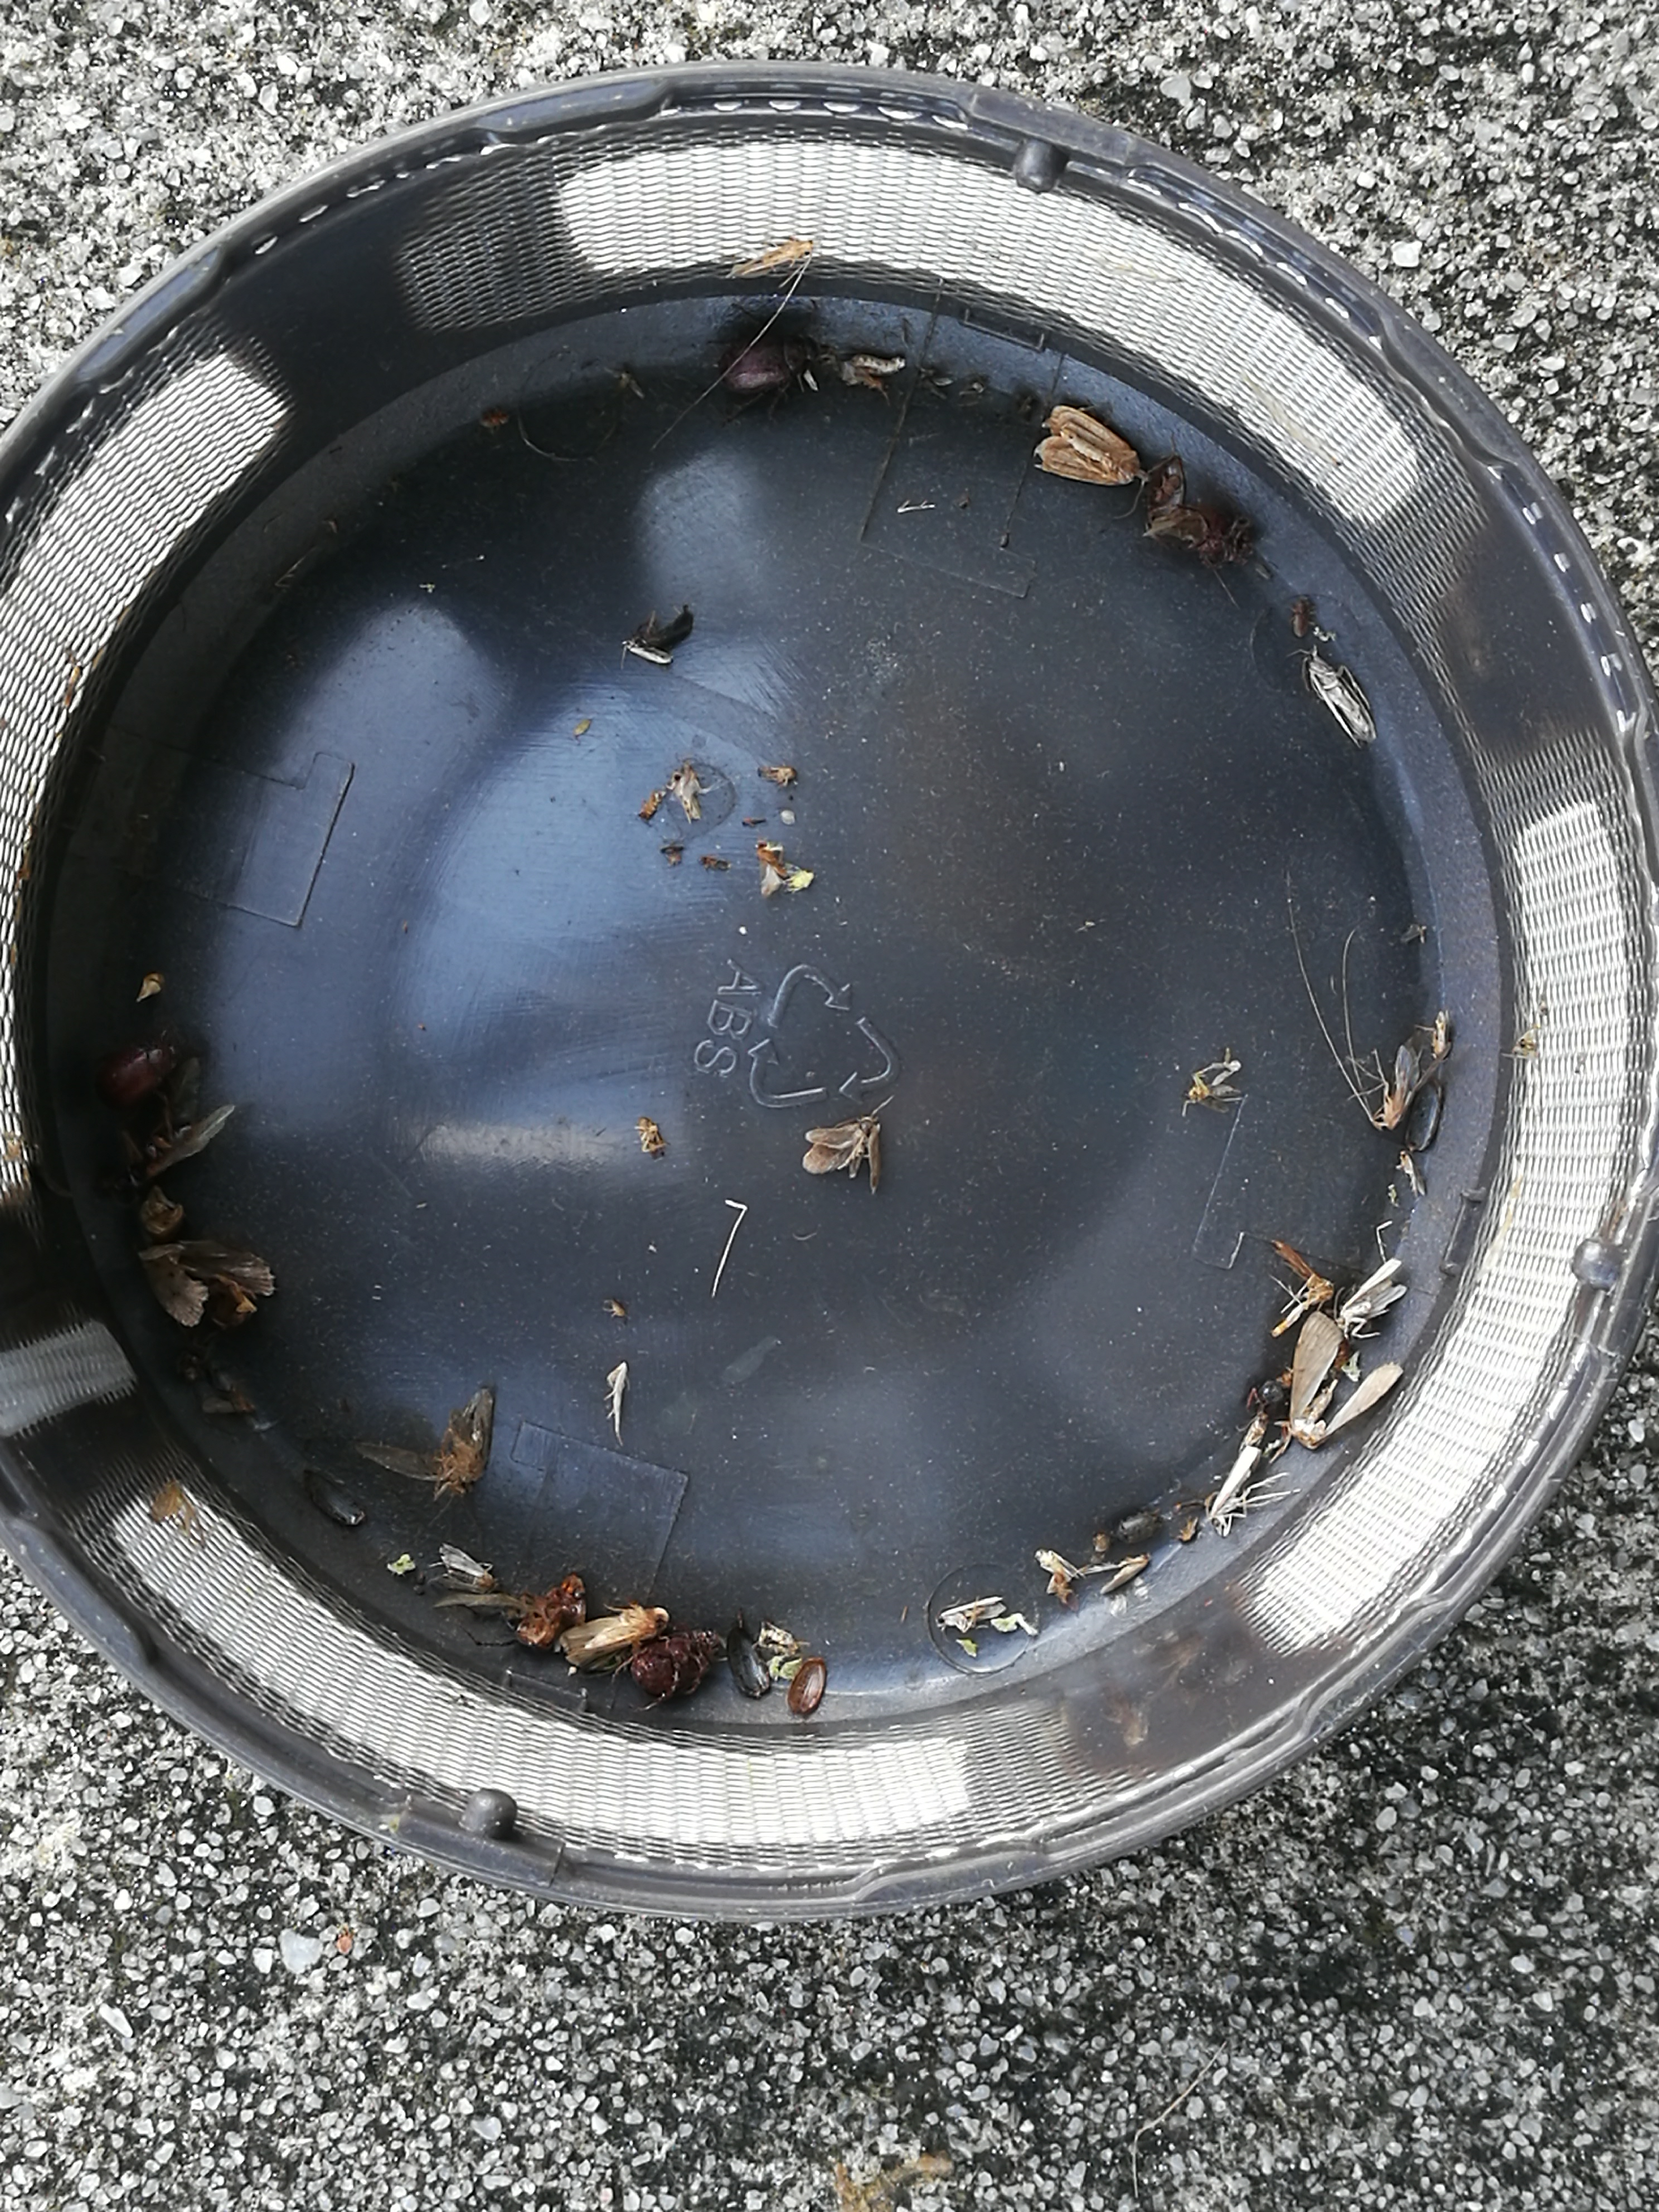beetle: (720, 334, 817, 394), (633, 1629, 716, 1695), (101, 1040, 179, 1106)
mosquito: (1307, 651, 1377, 745), (1211, 1446, 1258, 1526), (730, 242, 814, 279), (1385, 1040, 1419, 1129), (936, 1597, 1007, 1629), (1101, 1554, 1152, 1592), (671, 772, 699, 819), (1399, 1151, 1425, 1195), (624, 641, 671, 664), (1434, 1010, 1450, 1059)
moth: (1290, 1312, 1403, 1451), (117, 1059, 234, 1191), (361, 1390, 491, 1480), (141, 1240, 274, 1324), (1032, 408, 1140, 486), (561, 1602, 667, 1667), (803, 1118, 880, 1190), (1335, 1258, 1406, 1331), (430, 1541, 500, 1594)
